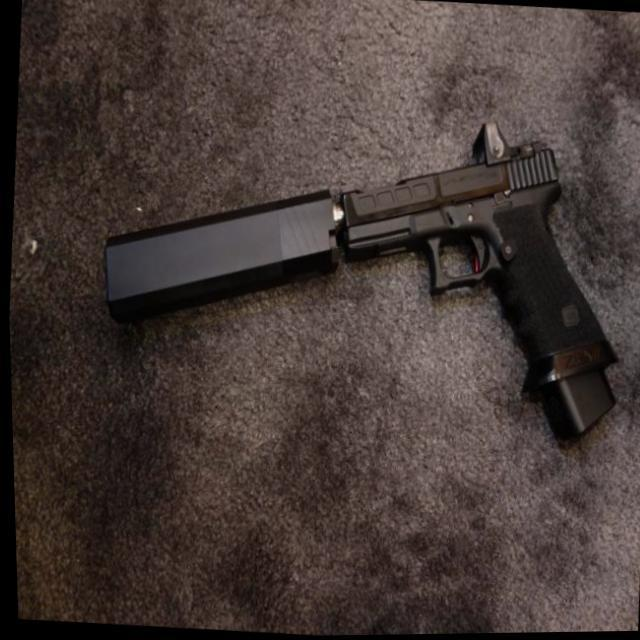weapon: (88, 93, 634, 452)
